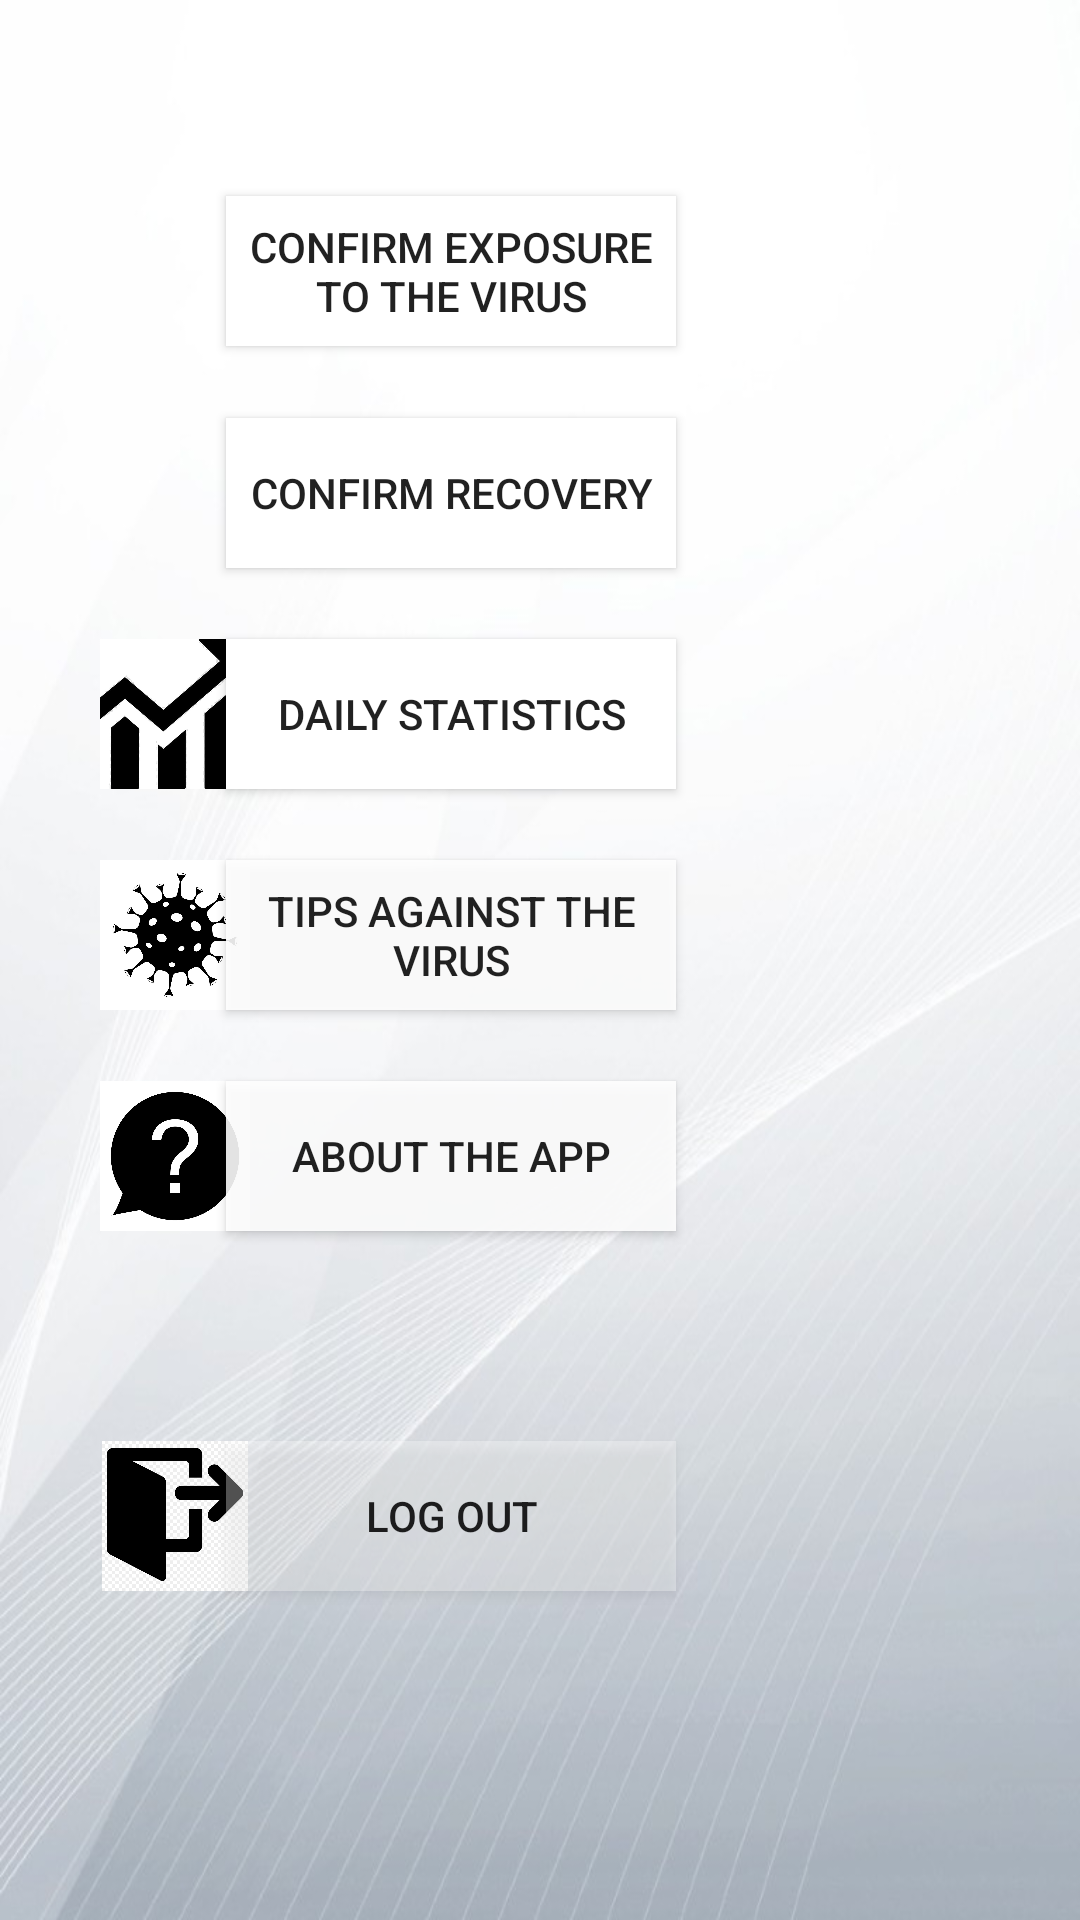

Named icons in this screenshot (1080 x 1920) and their centers, [x,y]:
faq: [175,1156]
stats: [163,714]
